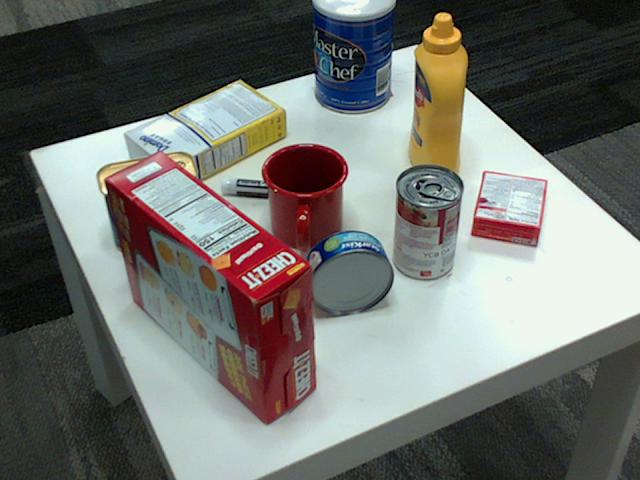cracker_box: (102, 150, 316, 421)
gelatin_box: (473, 170, 548, 245)
large_marker: (219, 180, 324, 200)
master_chef_can: (311, 0, 393, 112)
mug: (262, 140, 350, 248)
mustard_bottle: (408, 13, 467, 181)
potted_meat_can: (97, 151, 202, 253)
sugar_box: (124, 78, 287, 191)
tomato_soup_can: (393, 164, 463, 279)
tuna_fish_can: (305, 230, 395, 313)
